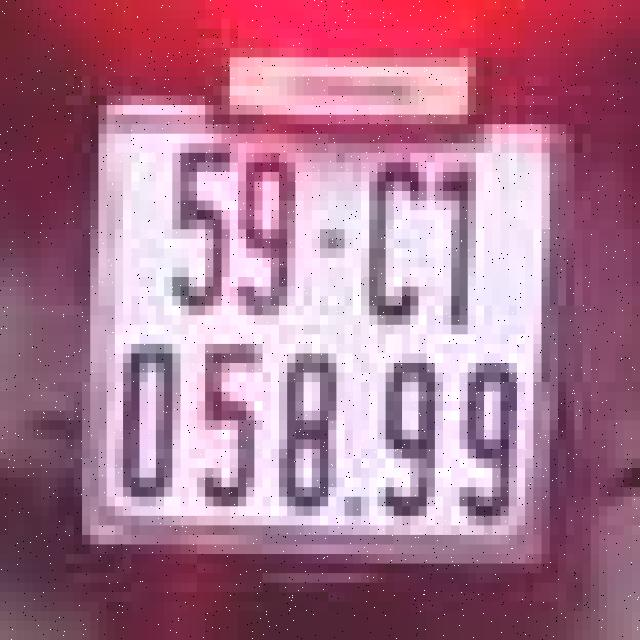0: (102, 325, 184, 506)
1: (435, 148, 484, 349)
5: (156, 139, 238, 339), (201, 320, 275, 511)
8: (270, 334, 344, 526)
9: (234, 143, 308, 334), (373, 339, 439, 530), (455, 358, 521, 530)
C: (357, 143, 431, 325)
